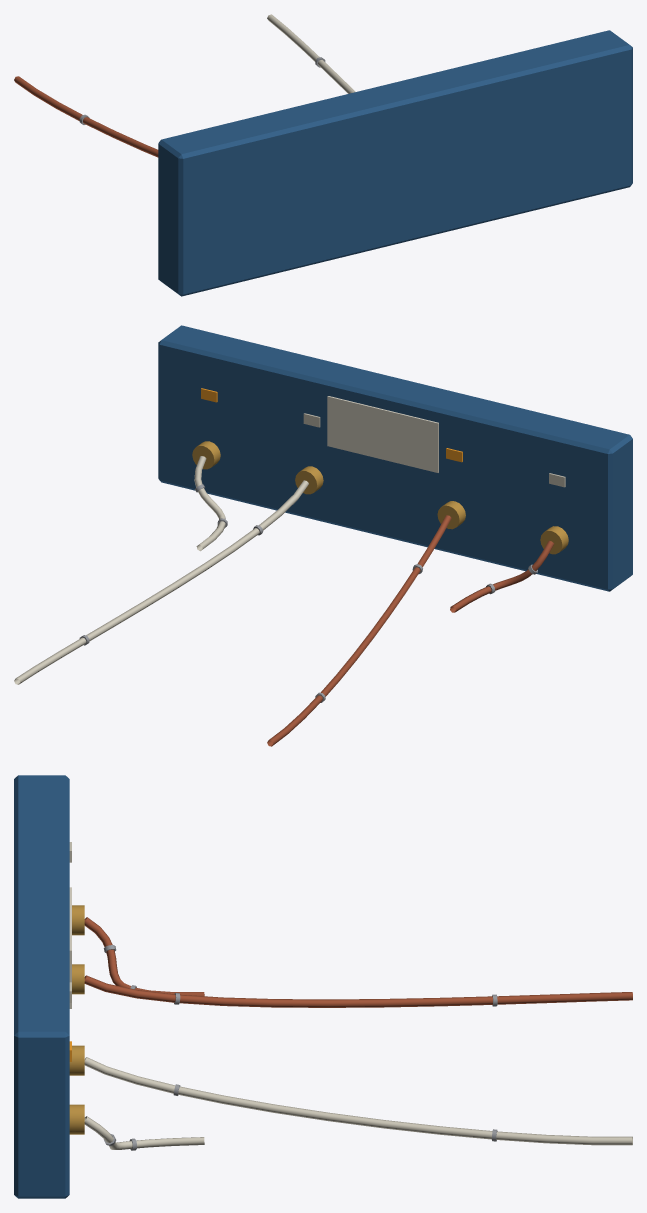
File: drone4_charger.obj
3 renders of one model, top to bottom at view 1: azimuth 30°, elevation 25°; view 2: azimuth 150°, elevation 25°; view 3: azimuth 270°, elevation 25°, orthographic. The views are drawn at different scales.
Parts seen in each view (by area): view 1: drone4_charger; view 2: drone4_charger; view 3: drone4_charger.
Part boxes in pixels (x1,y1,x2,y2): drone4_charger: (14, 14, 632, 296); drone4_charger: (14, 325, 632, 746); drone4_charger: (14, 775, 632, 1198).
Bounding box in the file's own units: 2.87 × 0.8742 × 2.89.
